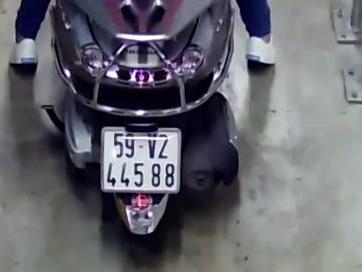num_plate: (100, 126, 182, 194)
